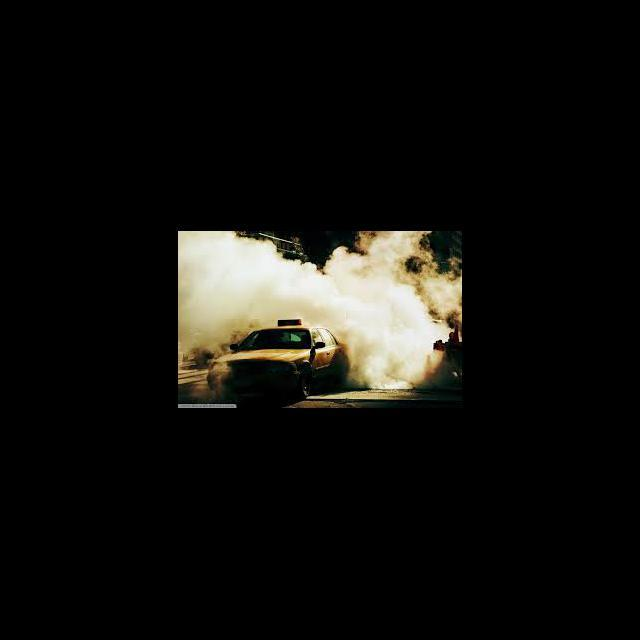Smoke: (179, 232, 462, 391)
